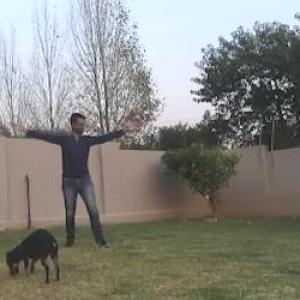takeoff: (1, 108, 132, 260)
